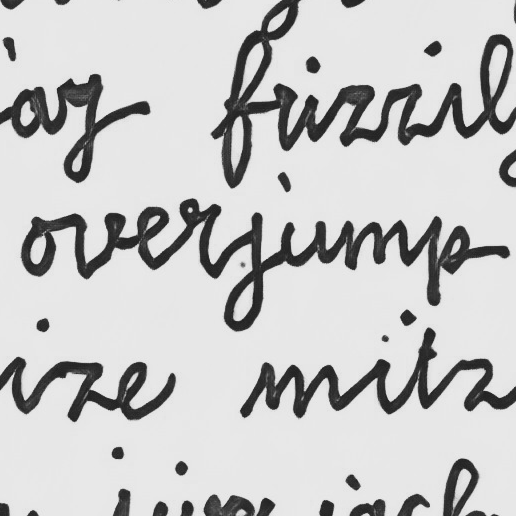e: (134, 203, 172, 273)
j: (220, 210, 271, 334)
m: (340, 214, 411, 272)
o: (19, 213, 57, 280)
p: (421, 215, 473, 312)
r: (173, 197, 228, 280)
u: (277, 217, 330, 270)
v: (67, 208, 128, 280)
